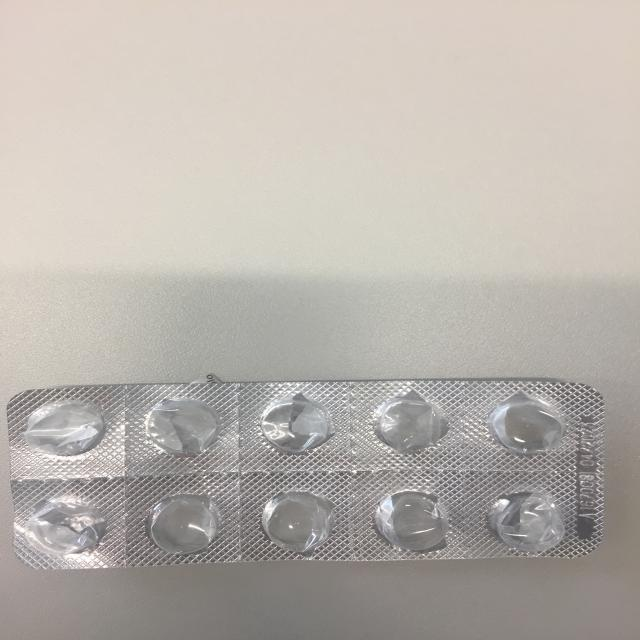Empty: (482, 393, 576, 461), (22, 492, 112, 561), (365, 488, 455, 556), (254, 486, 341, 556), (140, 494, 235, 558), (253, 391, 340, 460), (479, 485, 568, 552), (18, 398, 112, 461), (136, 392, 223, 459), (366, 389, 452, 456)
